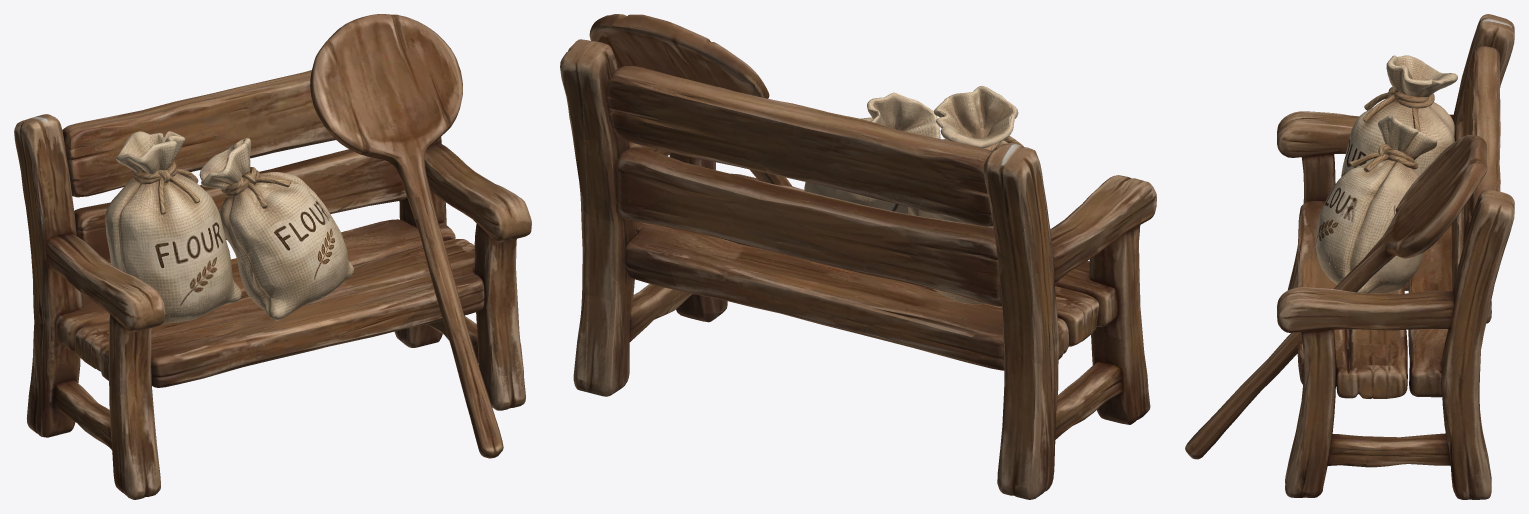
Rendered from bench.glb.
3 views of the same model, side by side, from view 1: azimuth 30°, elevation 25°; view 2: azimuth 150°, elevation 25°; view 3: azimuth 270°, elevation 25° (orthographic). The views are drawn at different scales.
Visible parts, largest first — view 1: Mesh_0; view 2: Mesh_0; view 3: Mesh_0.
Boxes of the visible parts, x1,y1,x2,y2 form: Mesh_0: [14, 14, 531, 499]; Mesh_0: [560, 14, 1156, 499]; Mesh_0: [1185, 14, 1514, 499].
Size of the model in its own units: 1.9 by 1.48 by 1.36.
Materials: 1 (1 with a texture image).
